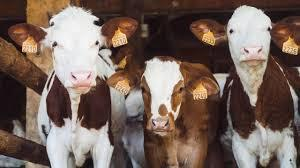cow: (8, 7, 141, 168), (191, 5, 300, 168), (105, 56, 222, 168)
